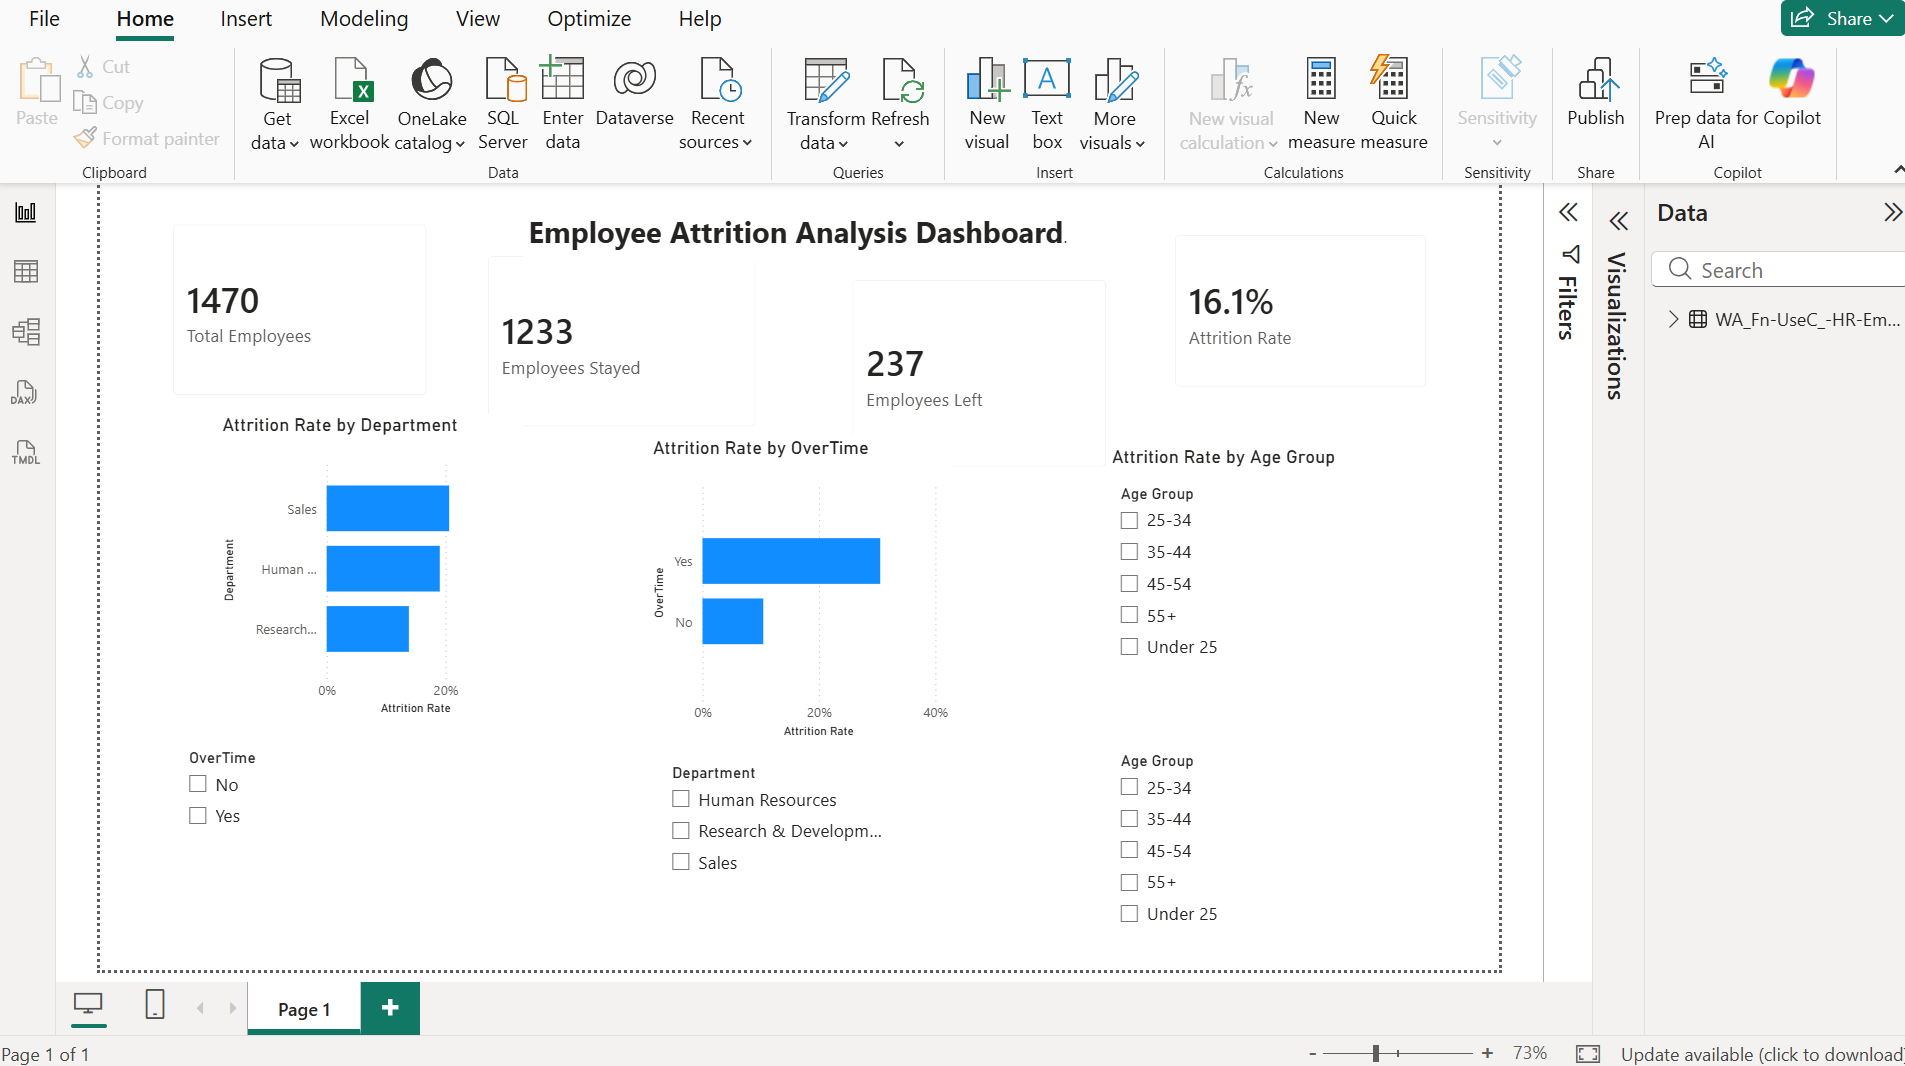

This screenshot's page, from the dashboard's own definition file:
{"tool":"powerbi","page":{"name":"Page 1","canvas":[1280,720],"ordinal":0},"visuals":[{"type":"cardVisual","fields":{"Data":["WA_Fn-UseC_-HR-Employee-Attrition.Total Employees"]},"box":[49.1,20.8,266.5,190.9],"z":0},{"type":"cardVisual","fields":{"Data":["WA_Fn-UseC_-HR-Employee-Attrition.Employees Left"]},"box":[670.9,71.8,266.5,206],"z":1},{"type":"cardVisual","fields":{"Data":["WA_Fn-UseC_-HR-Employee-Attrition.Employees Stayed"]},"box":[338.3,49.1,279.7,190.9],"z":2},{"type":"cardVisual","fields":{"Data":["WA_Fn-UseC_-HR-Employee-Attrition.Attrition Rate"]},"box":[965.7,30.2,264.6,173.9],"z":3},{"type":"clusteredBarChart","title":"Attrition Rate by Department","fields":{"Category":["WA_Fn-UseC_-HR-Employee-Attrition.Department"],"Y":["WA_Fn-UseC_-HR-Employee-Attrition.Attrition Rate"]},"box":[107.7,211.7,280,280],"z":4},{"type":"clusteredBarChart","fields":{"Y":["WA_Fn-UseC_-HR-Employee-Attrition.Attrition Rate"],"Category":["WA_Fn-UseC_-HR-Employee-Attrition.OverTime"]},"box":[500.8,232.4,280,280],"z":6},{"type":"slicer","title":"Attrition Rate by Age Group","fields":{"Values":["WA_Fn-UseC_-HR-Employee-Attrition.Age Group"]},"box":[920.3,240,309.9,223],"z":7},{"type":"slicer","fields":{"Values":["WA_Fn-UseC_-HR-Employee-Attrition.Department"]},"box":[510.2,525.4,213.5,194.6],"z":8},{"type":"slicer","fields":{"Values":["WA_Fn-UseC_-HR-Employee-Attrition.Age Group"]},"box":[920.3,514,214,195],"z":9},{"type":"slicer","fields":{"Values":["WA_Fn-UseC_-HR-Employee-Attrition.OverTime"]},"box":[68,512.1,230.6,206],"z":10},{"type":"textbox","box":[338,506,172,206],"z":11},{"type":"textbox","box":[724,512,196,195],"z":12},{"type":"textbox","box":[387.4,20.8,549.9,51],"z":13}]}

Visuals, with their boxes on the page's 1280x720 design canvas (x1, y1, x2, y2). These are canvas units, not pixel positions in the 1905x1066 screenshot, which may show the page scaled, cropped or inside an application window:
cardVisual - WA_Fn-UseC_-HR-Employee-Attrition.Total Employees: 49/21/316/212
cardVisual - WA_Fn-UseC_-HR-Employee-Attrition.Employees Left: 671/72/937/278
cardVisual - WA_Fn-UseC_-HR-Employee-Attrition.Employees Stayed: 338/49/618/240
cardVisual - WA_Fn-UseC_-HR-Employee-Attrition.Attrition Rate: 966/30/1230/204
"Attrition Rate by Department" clusteredBarChart: 108/212/388/492
clusteredBarChart - WA_Fn-UseC_-HR-Employee-Attrition.Attrition Rate x WA_Fn-UseC_-HR-Employee-Attrition.OverTime: 501/232/781/512
"Attrition Rate by Age Group" slicer: 920/240/1230/463
slicer - WA_Fn-UseC_-HR-Employee-Attrition.Department: 510/525/724/720
slicer - WA_Fn-UseC_-HR-Employee-Attrition.Age Group: 920/514/1134/709
slicer - WA_Fn-UseC_-HR-Employee-Attrition.OverTime: 68/512/299/718
textbox: 338/506/510/712
textbox: 724/512/920/707
textbox: 387/21/937/72
